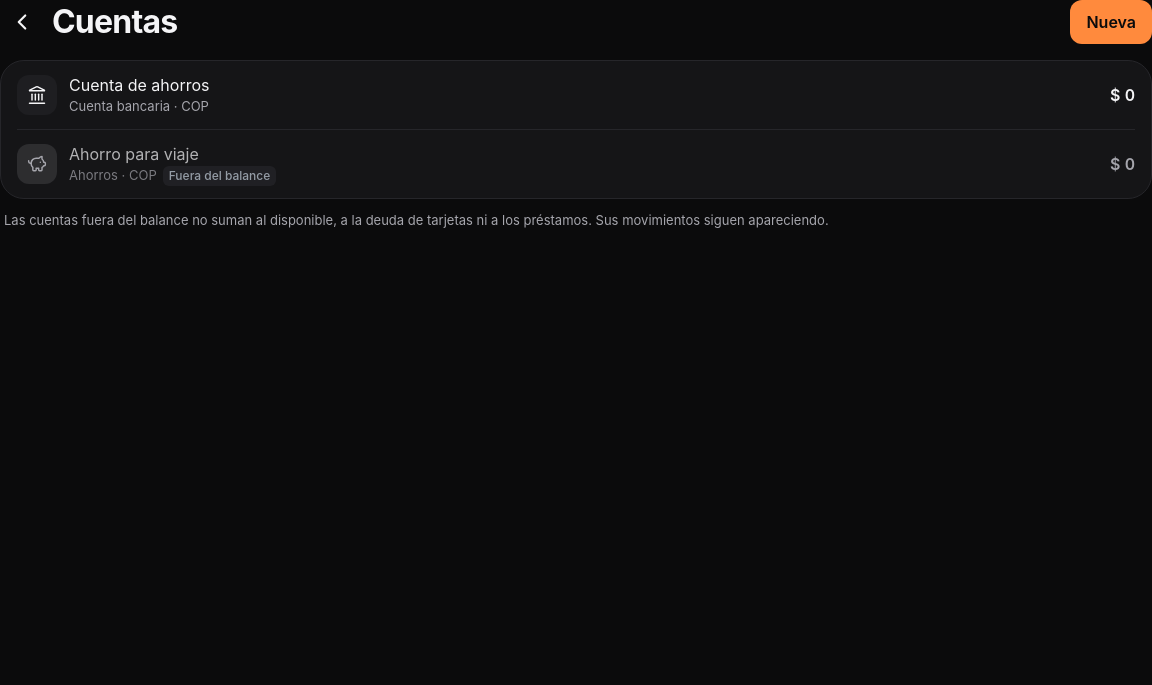
Test case: accounts and the balance › shows an excluded account with the switch off
What coordinates should you click on to do the following:
click the text "Ahorro para viaje"
I would click on:
 (134, 154)
Its box is [69, 144, 199, 164].
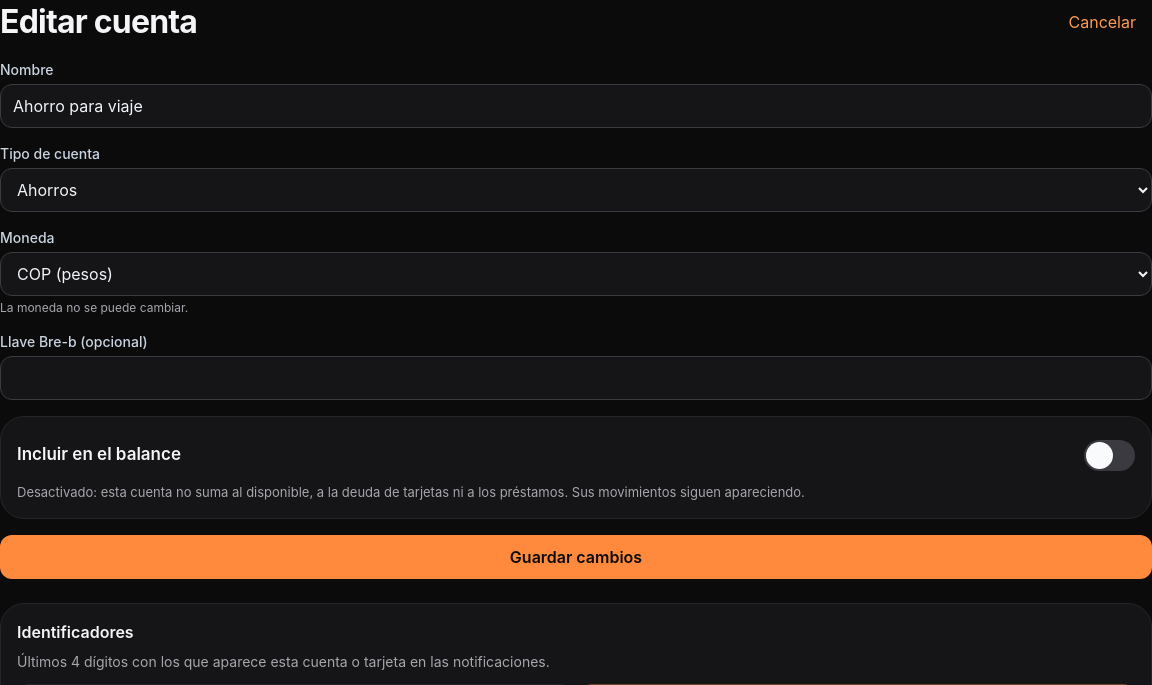
Now the switch named "Incluir en el balance" is not checked, box [1084, 440, 1135, 470]
